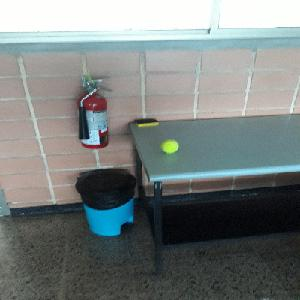Ball: (160, 140, 178, 154)
